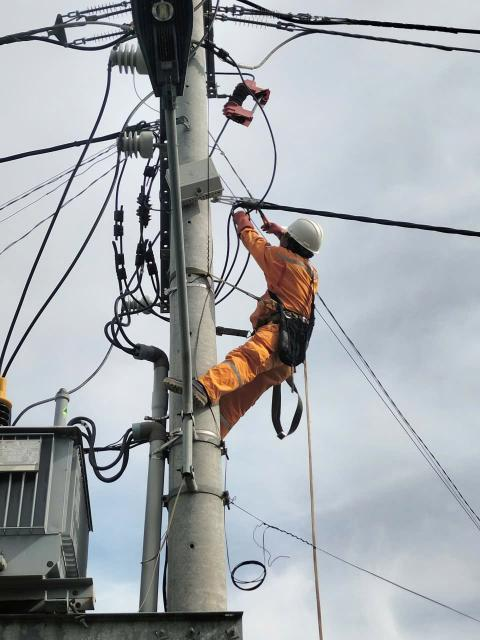gloves: (225, 200, 263, 243), (258, 208, 290, 239)
harness: (252, 278, 315, 351)
helmet: (275, 198, 338, 252)
shoes: (149, 373, 221, 408)
